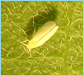whitefly: (22, 20, 59, 58)
